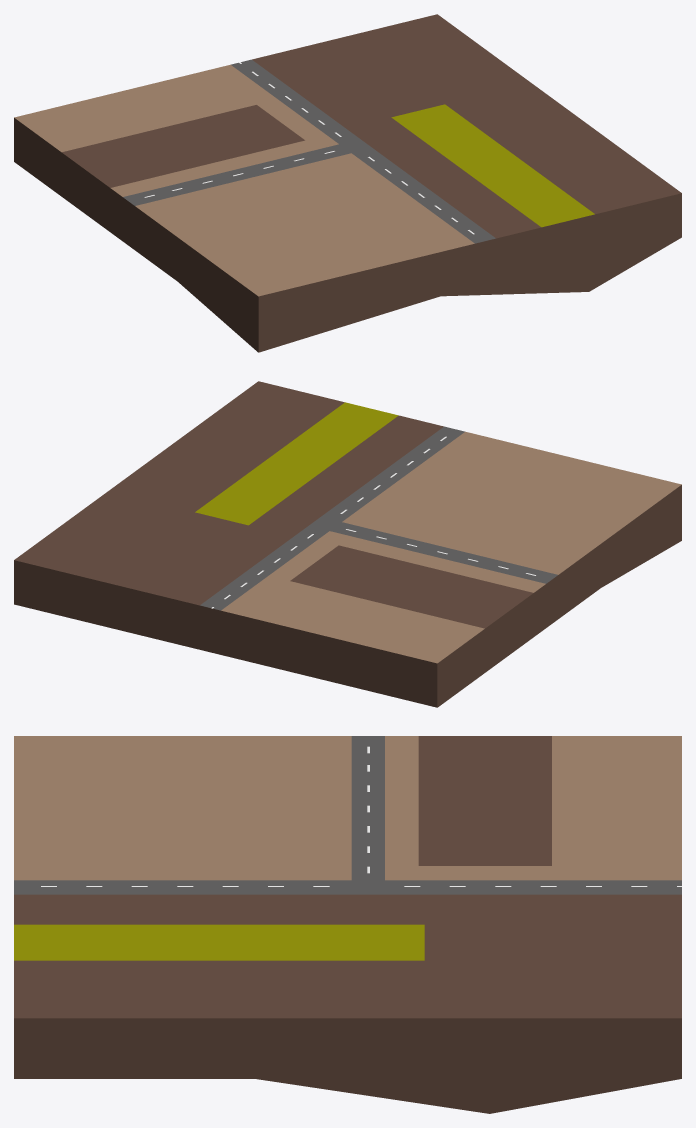
Rendered from FIRST BLOCK - 1.fbx.
3 renders of one model, top to bottom at view 1: azimuth 30°, elevation 25°; view 2: azimuth 150°, elevation 25°; view 3: azimuth 270°, elevation 25°, orthographic. The views are drawn at different scales.
Visible parts, largest first — view 1: Group1; view 2: Group1; view 3: Group1.
Part boxes in pixels (x1,y1,x2,y2): Group1: [14, 14, 681, 352]; Group1: [14, 381, 681, 707]; Group1: [14, 736, 681, 1113].
Bounding box in the file's own units: 10 × 2.75 × 10.
